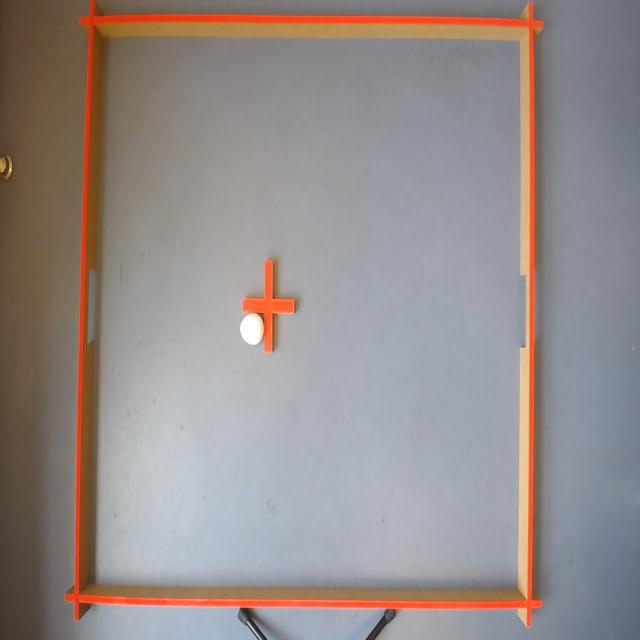cross: (241, 260, 295, 354)
egg: (240, 312, 264, 346)
